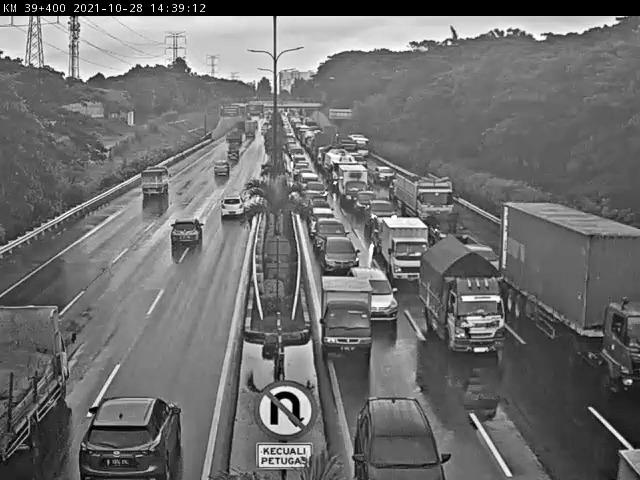big truck: (505, 203, 640, 402), (396, 174, 458, 243)
car: (64, 393, 185, 479), (349, 394, 446, 479), (349, 264, 402, 323), (312, 219, 352, 257), (323, 234, 358, 268), (367, 200, 401, 231), (168, 218, 206, 244), (220, 192, 249, 221), (313, 207, 345, 227), (359, 191, 376, 211), (213, 160, 230, 178)
small truck: (0, 298, 69, 468), (423, 239, 503, 351), (318, 271, 376, 357), (383, 217, 431, 283), (140, 163, 170, 198)
